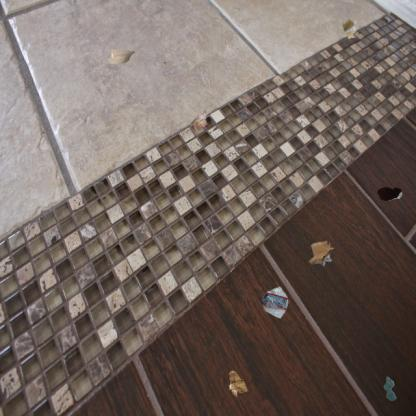dirty: (260, 284, 290, 320), (307, 239, 335, 268), (226, 370, 249, 399), (107, 48, 137, 66), (189, 109, 209, 133), (340, 17, 358, 40)
liquid: (382, 376, 398, 402), (376, 186, 402, 202)
